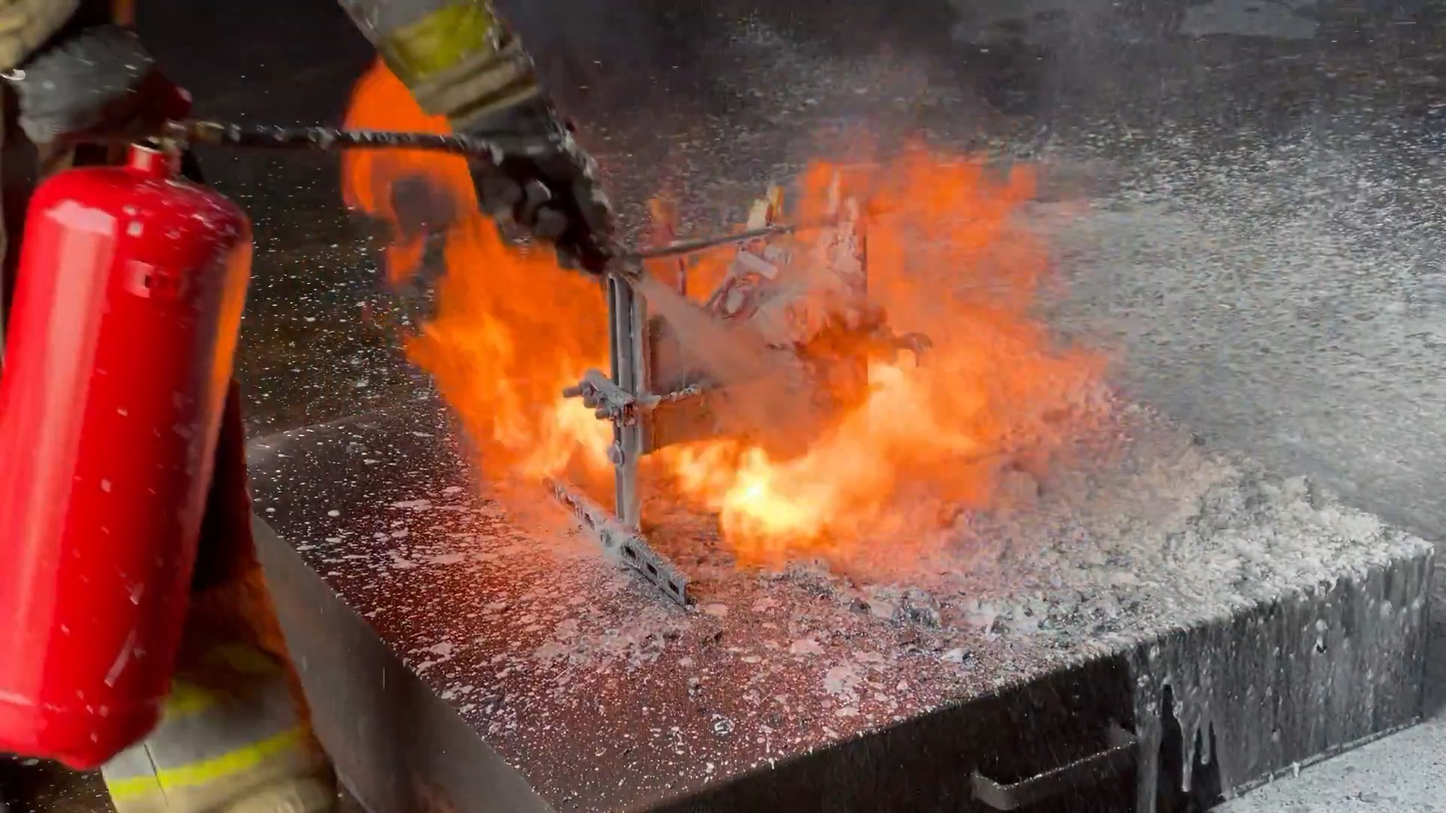fire: (337, 59, 1130, 583)
